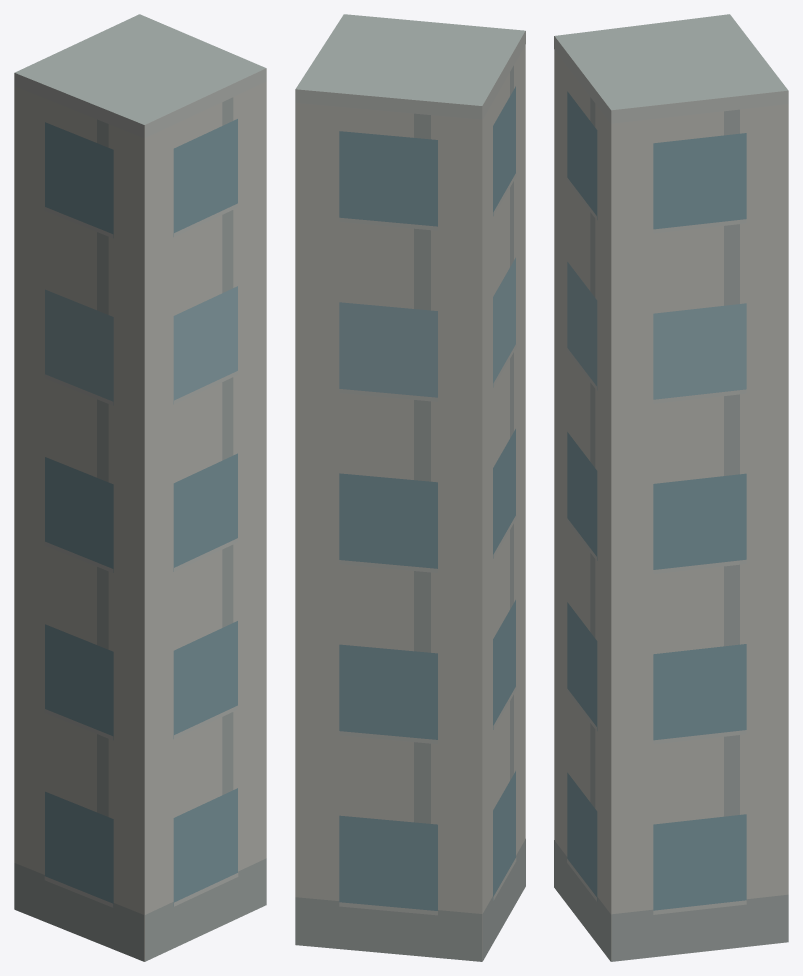
The model's file is survey-upis-32923520.glb.
The picture shows the model from 3 angles, left to right: view 1: azimuth 30°, elevation 25°; view 2: azimuth 150°, elevation 25°; view 3: azimuth 270°, elevation 25°; orthographic projection. The views are drawn at different scales.
Parts seen in each view (by area): view 1: survey-upis-32923520.tmp; view 2: survey-upis-32923520.tmp; view 3: survey-upis-32923520.tmp.
Part boxes in pixels (<box>): survey-upis-32923520.tmp: <box>14,14,266,961</box>; survey-upis-32923520.tmp: <box>295,14,525,961</box>; survey-upis-32923520.tmp: <box>554,14,788,961</box>.
Size of the model in its own units: 3.71 by 15.25 by 3.81.
